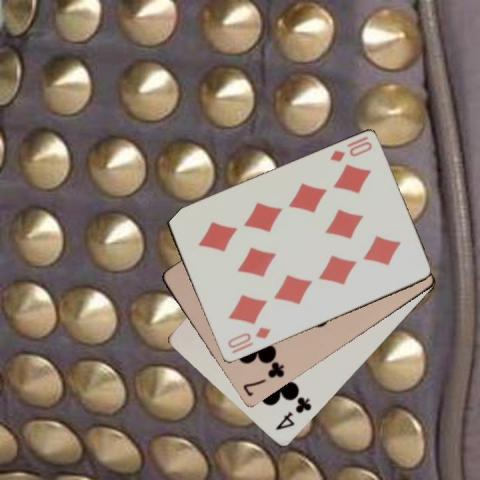10d: (225, 324, 272, 350), (327, 139, 373, 164)
4c: (273, 394, 313, 432)
7c: (240, 360, 286, 398)
